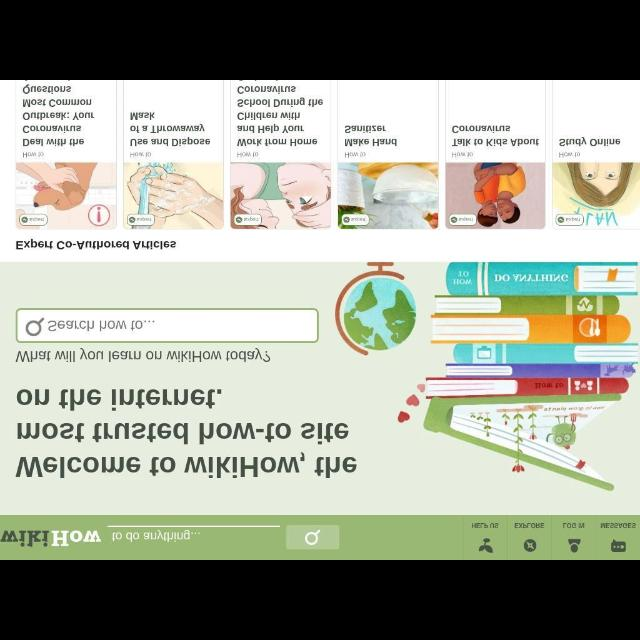backgroundimage: (3, 261, 637, 511)
button: (285, 524, 339, 550)
icon: (23, 319, 44, 337)
image: (18, 162, 118, 228), (125, 162, 223, 228), (339, 162, 437, 228), (232, 163, 331, 227), (447, 163, 545, 227), (554, 162, 638, 230), (0, 528, 100, 548), (479, 538, 495, 554), (614, 540, 626, 552), (569, 538, 579, 552), (526, 539, 536, 551)
input: (17, 311, 317, 341), (109, 524, 284, 546)
text: (16, 388, 357, 478), (238, 85, 326, 148), (23, 83, 96, 145), (131, 112, 211, 150), (14, 350, 272, 360), (452, 127, 540, 147), (15, 240, 178, 250), (48, 318, 158, 332), (111, 528, 201, 544), (344, 127, 398, 147), (560, 136, 620, 146), (602, 522, 636, 528), (344, 151, 368, 159), (514, 523, 544, 529), (558, 150, 580, 158), (562, 523, 586, 529), (130, 152, 152, 158), (237, 152, 259, 158), (451, 151, 473, 157), (23, 152, 43, 158), (472, 522, 498, 526)
toolbar: (2, 514, 640, 558)
